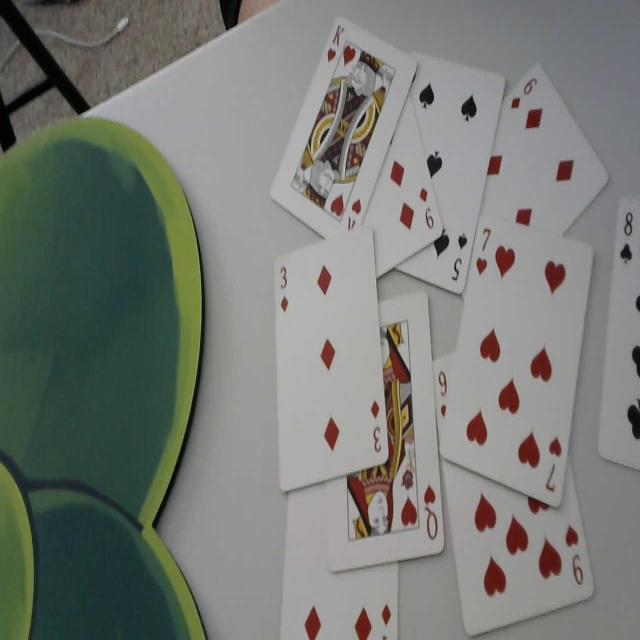3D: (369, 397, 383, 455), (276, 265, 290, 317)
5S: (450, 227, 470, 287)
6D: (509, 71, 541, 113)
7H: (544, 432, 562, 493), (476, 222, 492, 279)
8C: (617, 208, 637, 271)
9D: (417, 180, 437, 236)
9H: (563, 516, 585, 588)
KH: (325, 19, 345, 63)
QH: (419, 482, 440, 542)
